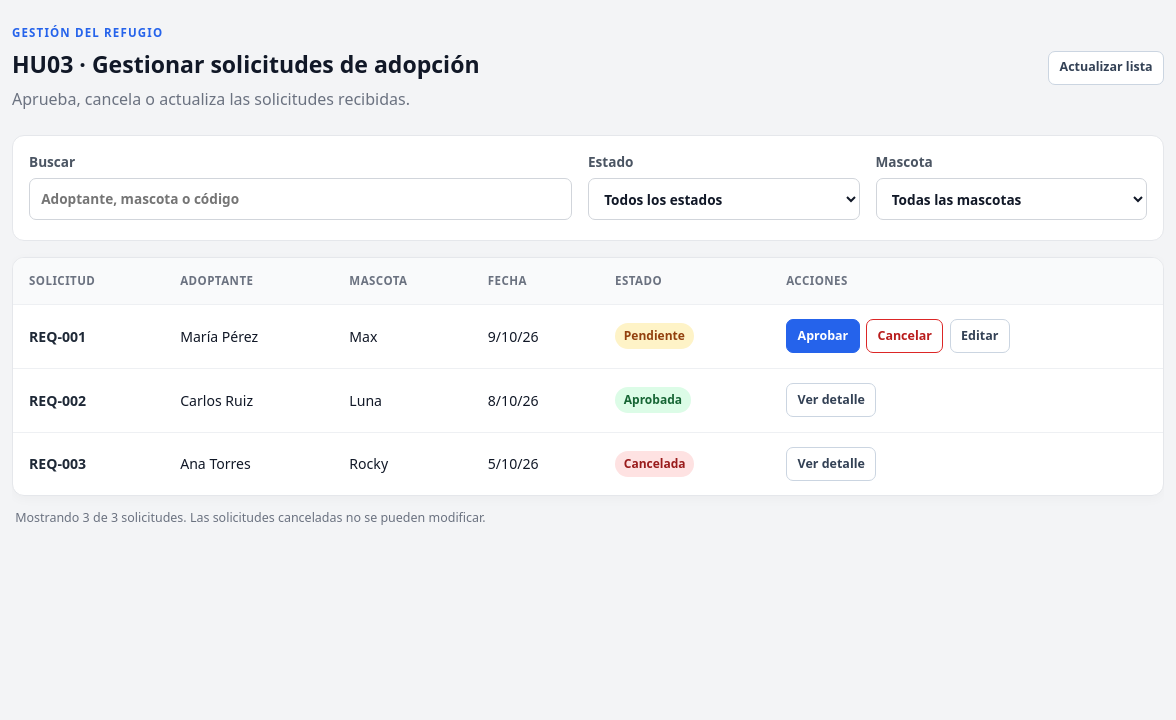
Test: HU03 - gestionar solicitudes de adopción › filtra por mascota
expect the heading "HU03 · Gestionar solicitudes de adopción" is shown: met, box [12,47,480,82]
Select "Luna" in the dropdown labelled "Mascota": point(1011, 199) [876,178,1147,220]
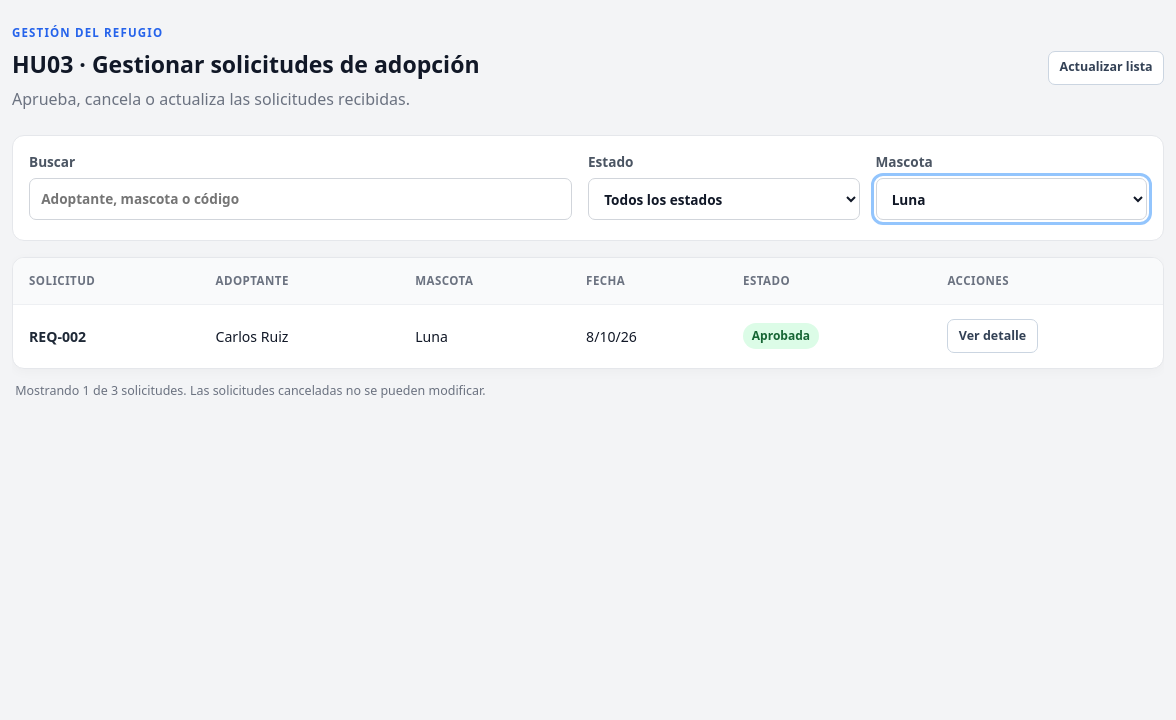
expect the text "Carlos Ruiz" is shown: met, box [200,304,399,368]
expect the text "María Pérez" is gone: met
